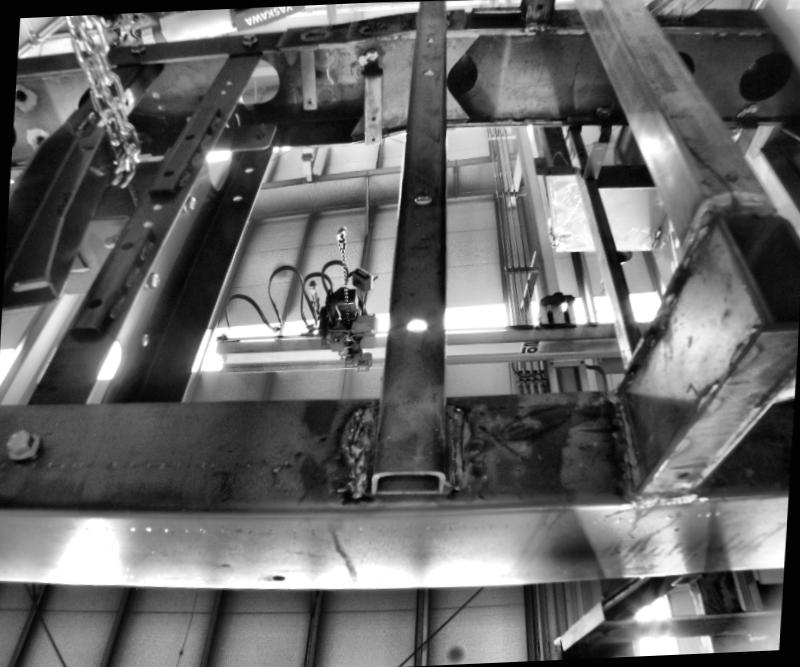bolt: (6, 427, 43, 460), (180, 190, 200, 212), (142, 270, 162, 290), (126, 38, 146, 56), (238, 30, 260, 46), (367, 48, 379, 59)
bracket: (355, 44, 387, 149), (224, 115, 279, 151), (295, 43, 322, 111), (578, 134, 614, 182)
hole: (212, 56, 284, 102), (401, 308, 431, 339), (410, 186, 434, 204), (721, 169, 740, 182), (138, 328, 150, 344), (86, 296, 101, 308), (16, 86, 29, 99), (676, 468, 688, 482), (422, 67, 437, 74), (182, 131, 195, 139), (119, 239, 132, 247), (252, 130, 264, 138), (162, 169, 174, 176), (141, 218, 153, 225), (152, 202, 162, 208), (593, 144, 603, 150), (245, 164, 254, 170), (232, 194, 241, 200), (271, 574, 283, 578), (426, 35, 434, 40), (307, 96, 313, 102), (228, 77, 234, 83), (220, 86, 227, 91), (370, 115, 376, 120), (536, 1, 542, 6), (370, 137, 376, 140)
welding: (438, 396, 481, 490), (343, 392, 366, 497)
